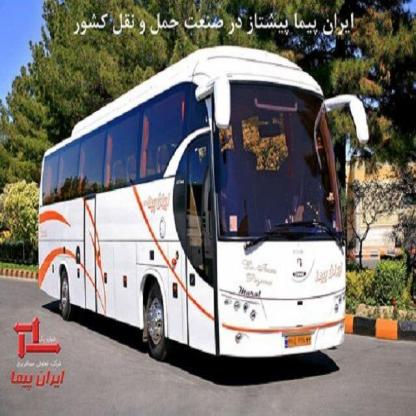Bus: (35, 50, 377, 384)
